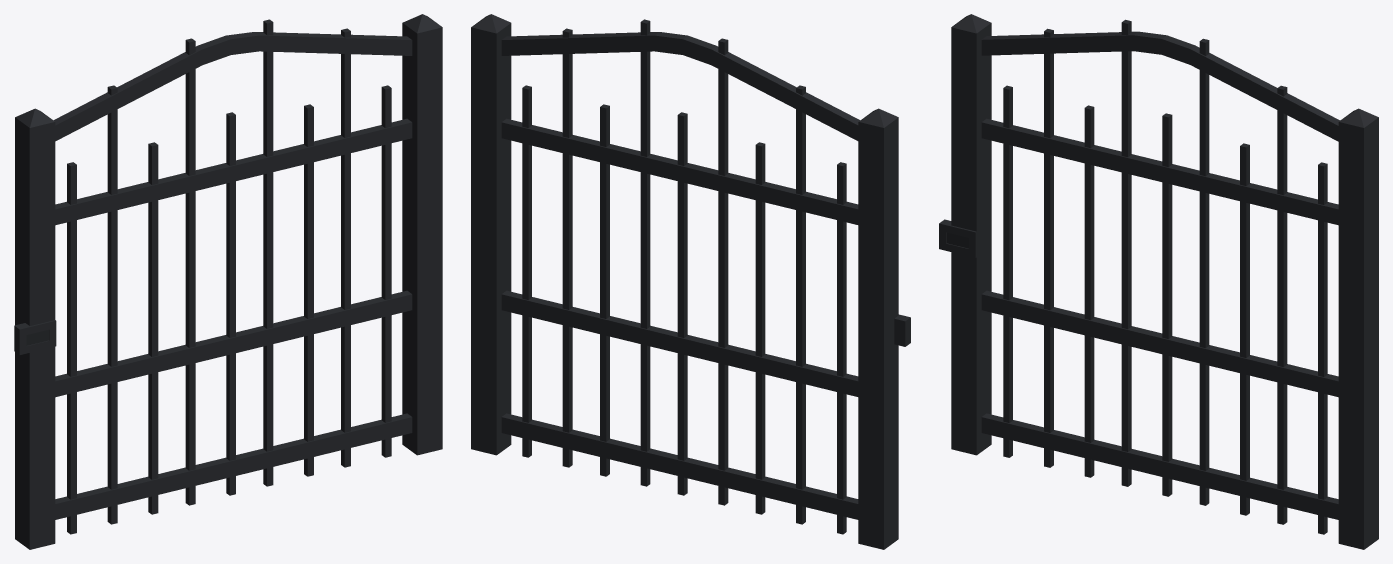
The model's file is FenceGate_1.fbx.
3 views of the same model, side by side, from view 1: azimuth 30°, elevation 25°; view 2: azimuth 150°, elevation 25°; view 3: azimuth 330°, elevation 25° (orthographic).
Parts seen in each view (by area): view 1: FenceGate_1; view 2: FenceGate_1; view 3: FenceGate_1.
Boxes of the visible parts, x1=… form: FenceGate_1: x1=14, y1=14, x2=442, y2=549; FenceGate_1: x1=471, y1=14, x2=910, y2=549; FenceGate_1: x1=939, y1=14, x2=1378, y2=549.
Size of the model in its own units: 297 by 310 by 19.08.
